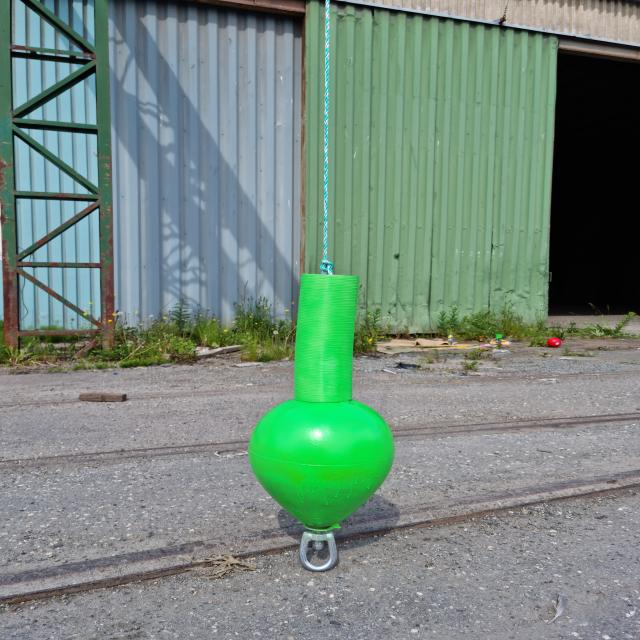green: (247, 273, 397, 527)
